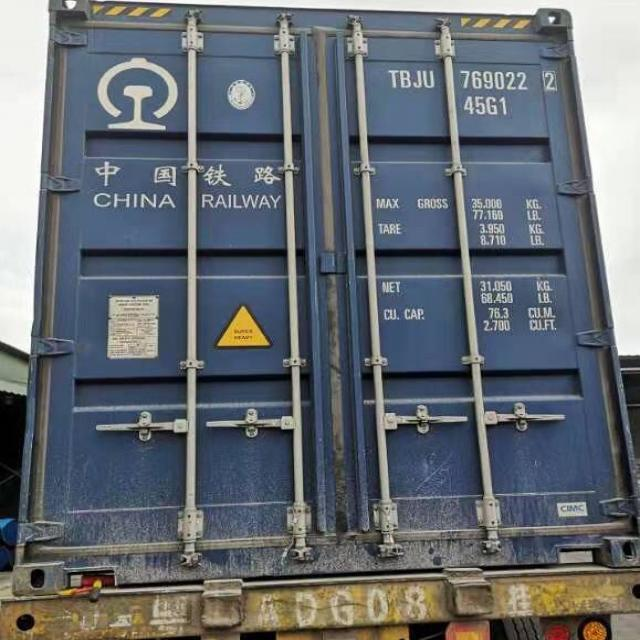ISO: (466, 96, 509, 117)
container_number: (388, 66, 563, 92)
